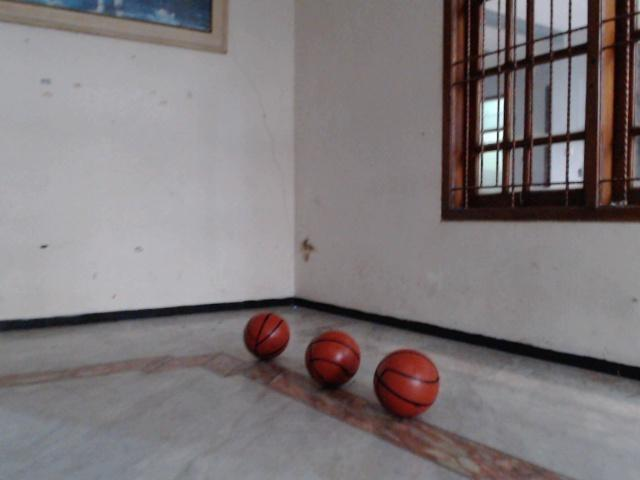Sports-Ball: (376, 351, 441, 418), (303, 330, 364, 384), (242, 313, 292, 362)
